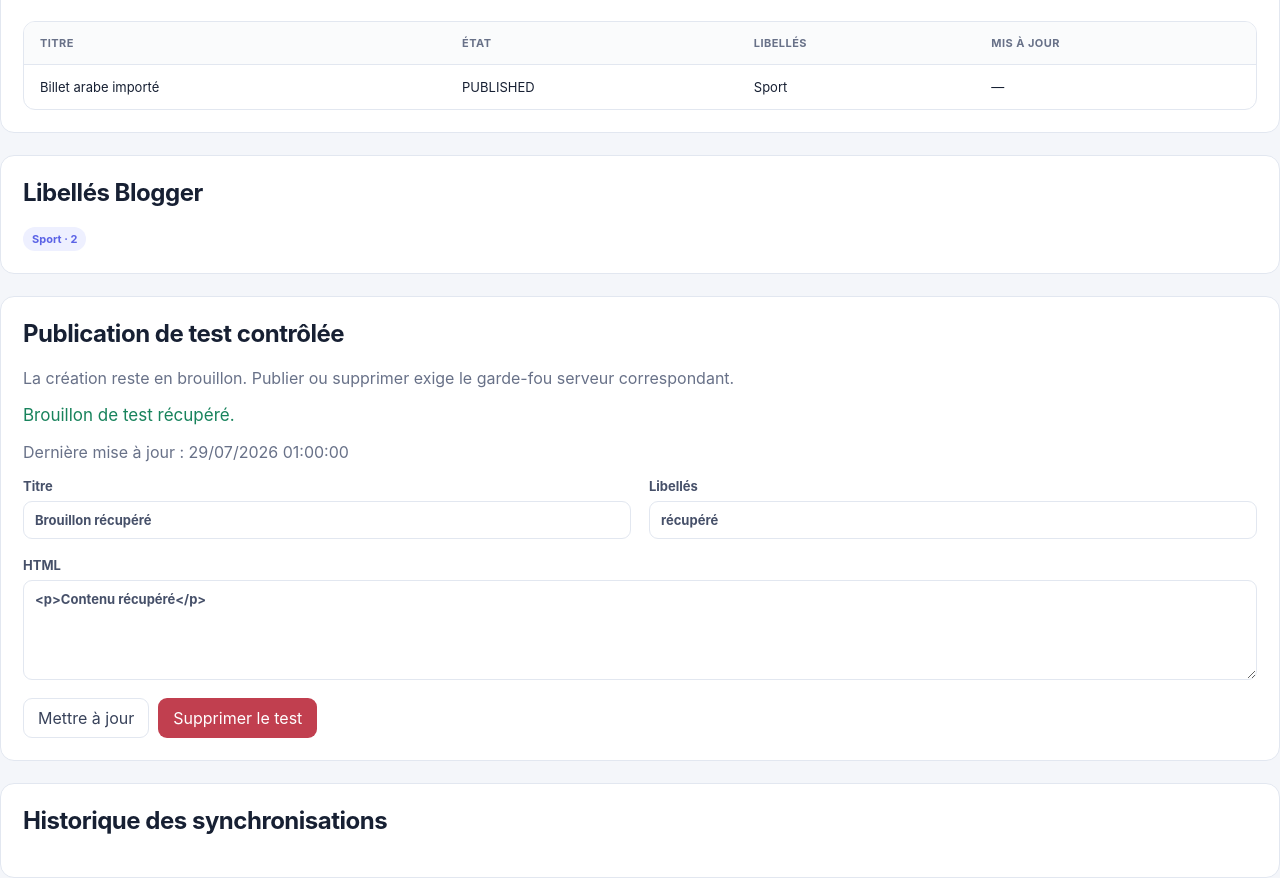
it: Administration Blogger › updates and deletes only through the server-resolved current publication
(page scrolled)
Replace the text in the field showing "Brouillon récupéré" with "Brouillon récupéré et modifié" at (327, 520), box [23,501,631,539]
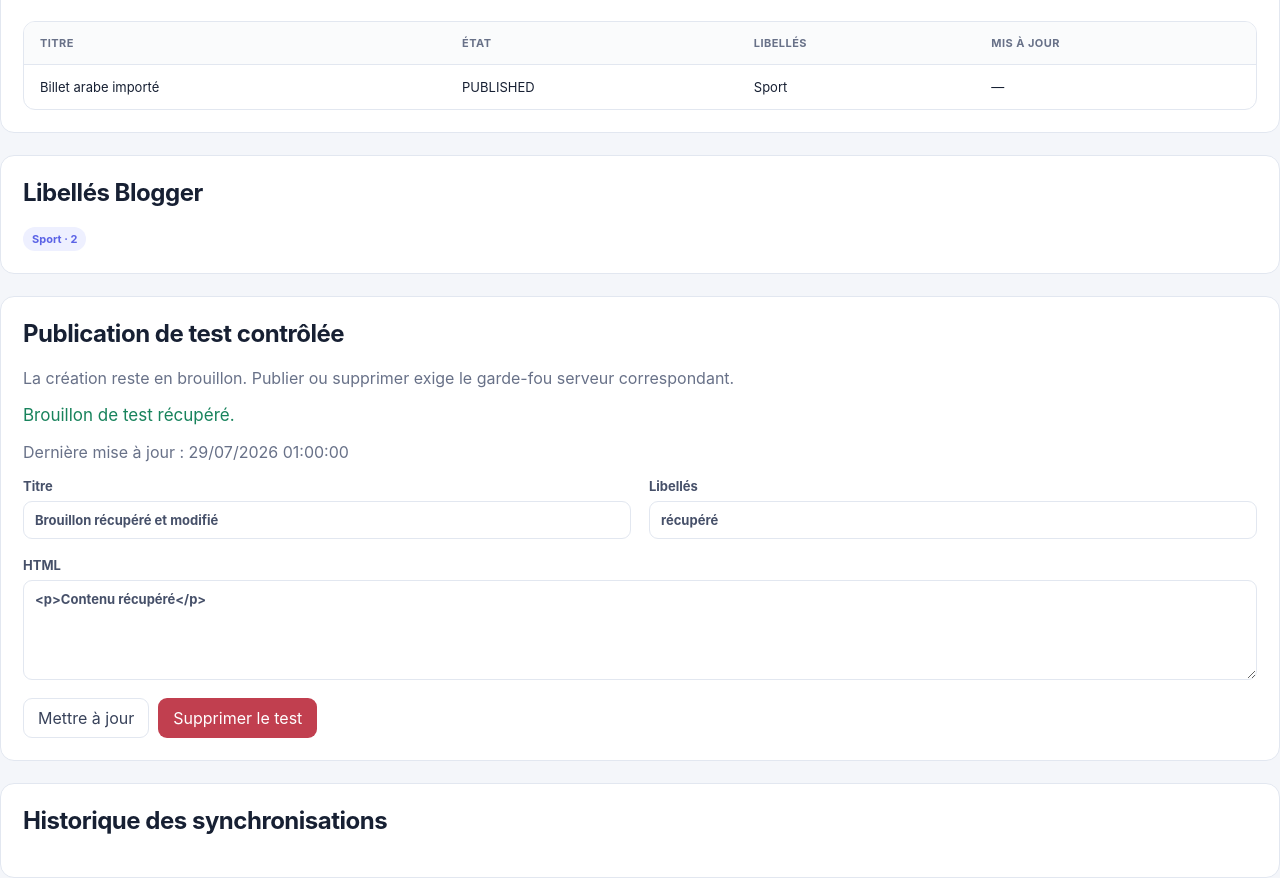
Click the button "Mettre à jour" at (86, 718), box [23,698,149,738]
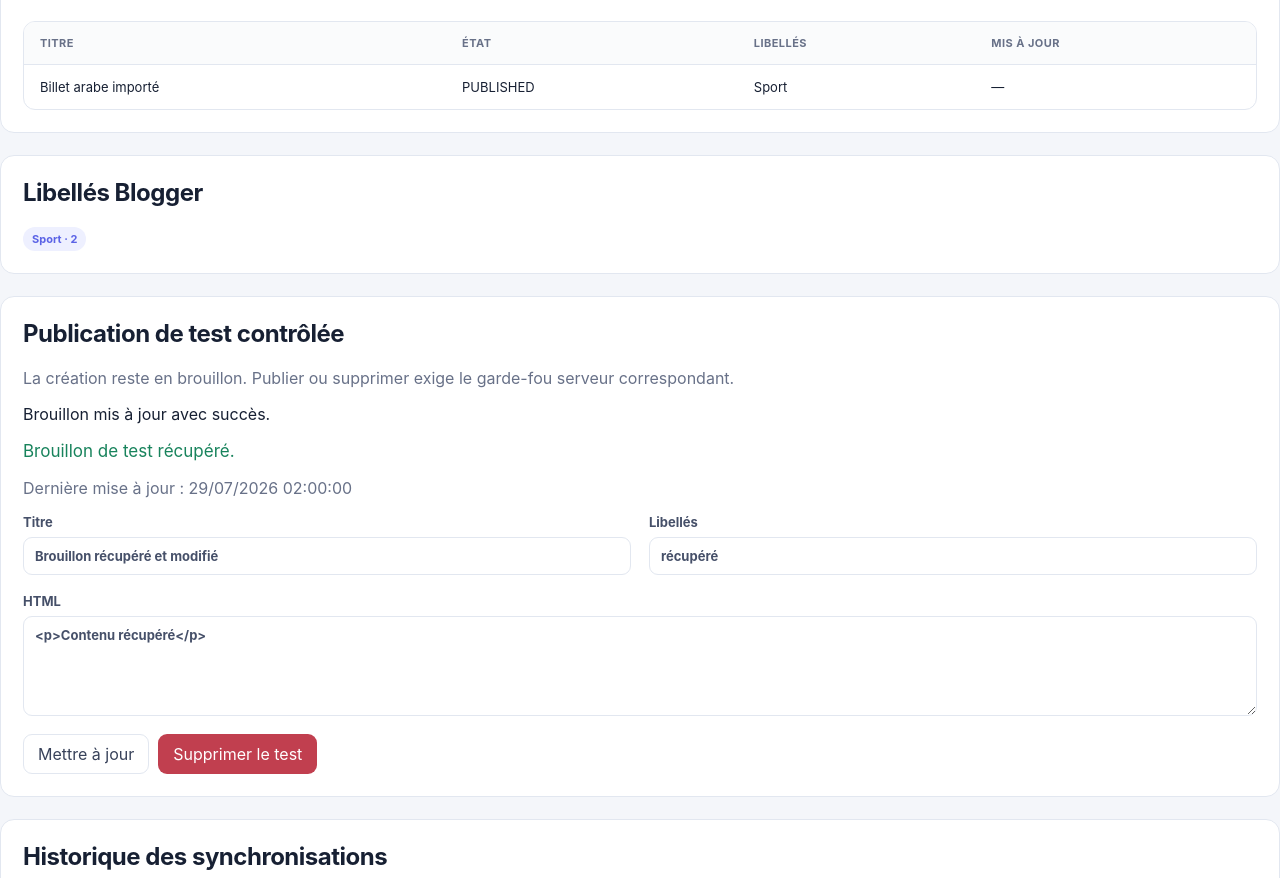
Check: the text "Brouillon mis à jour avec succès." is shown, box [23,404,270,424]
Click the button "Supprimer le test" at (238, 754), box [158,734,317,774]
(page scrolled)
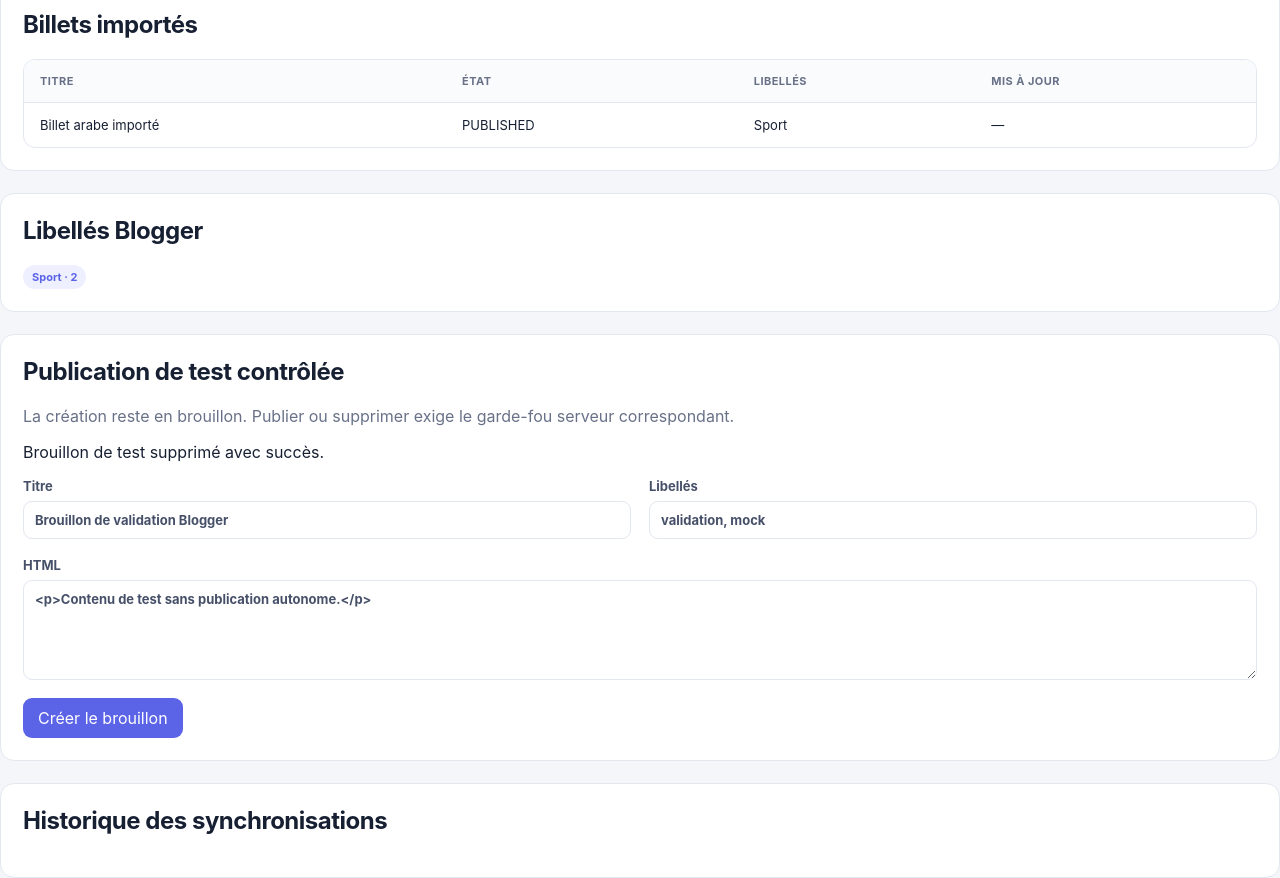
Check: the text "Brouillon de test supprimé avec succès." is shown, box [23,442,324,462]
Check: the button "Créer le brouillon" is shown, box [23,698,183,738]
